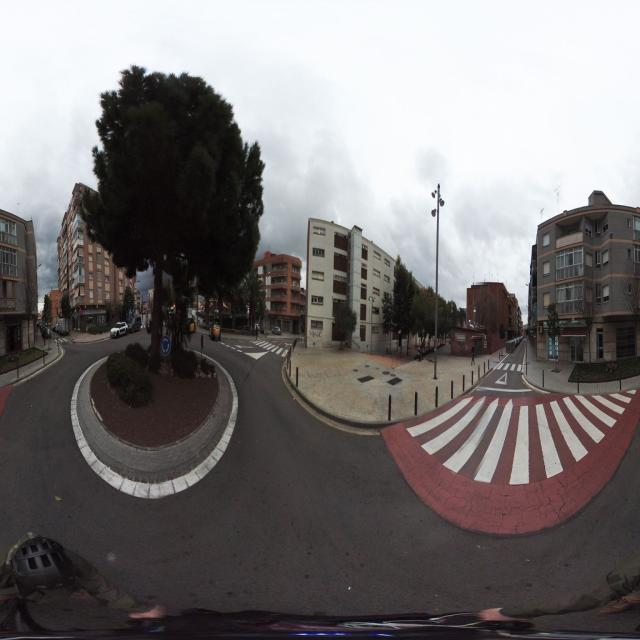forb_stopping: (134, 310, 136, 314)
